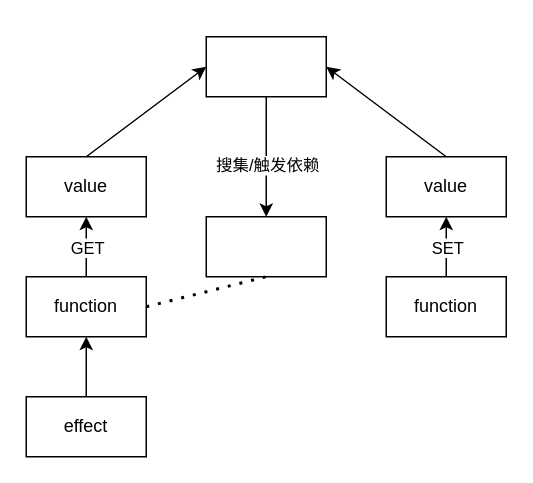
Some shapes in this 533 by 483 pixel diagram are drawn without their labels. Here are the shapes that lost their labels. From the top down, the centre of each, then its label:
the point at 265,66: ref
the point at 265,246: depend
